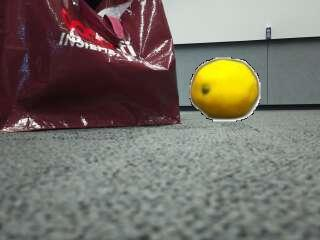lemon: (192, 60, 259, 119)
